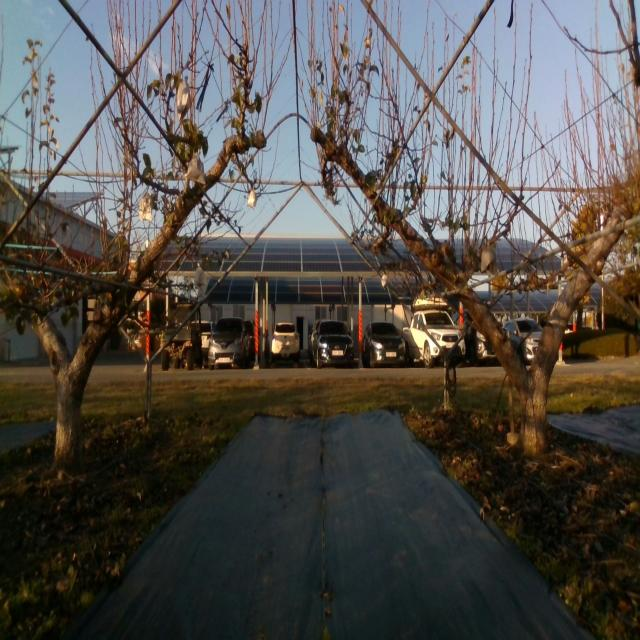pearbags: (184, 156, 206, 185), (177, 81, 190, 114), (481, 247, 496, 275), (139, 192, 153, 221), (194, 268, 207, 285)
